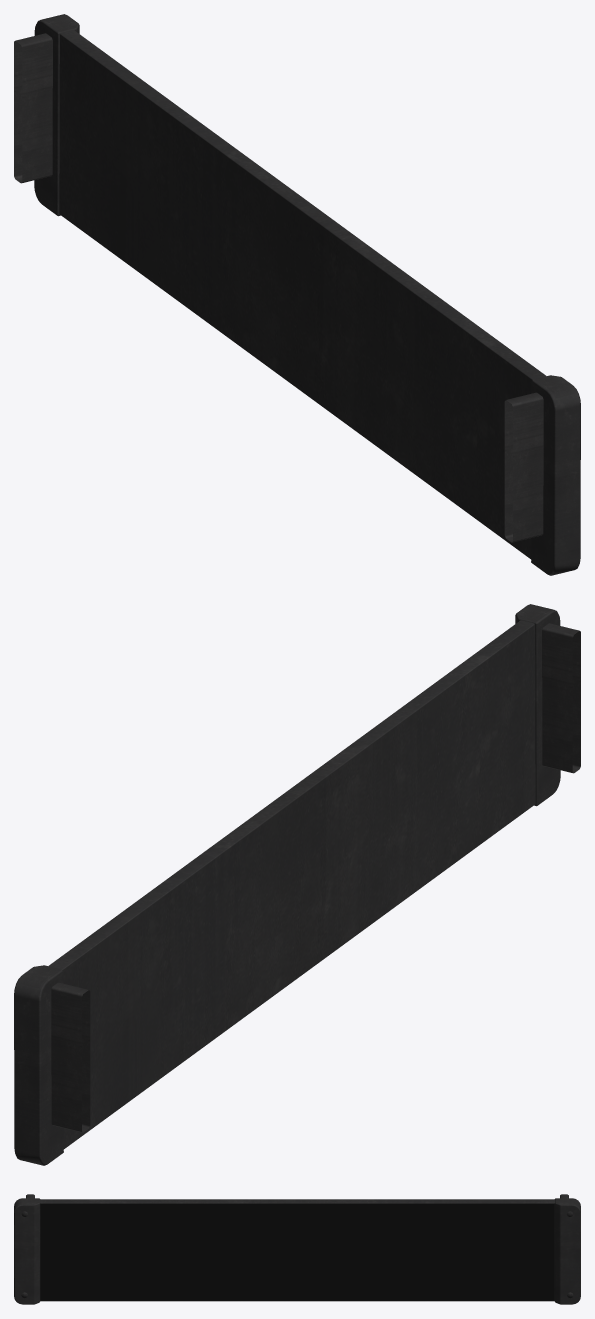
The model's file is Screen_2.fbx.
The picture shows the model from 3 angles, top to bottom: view 1: azimuth 30°, elevation 25°; view 2: azimuth 150°, elevation 25°; view 3: azimuth 270°, elevation 25°; orthographic projection. The views are drawn at different scales.
Visible parts, largest first — view 1: Cube.251; view 2: Cube.251; view 3: Cube.251.
Part boxes in pixels (x1=…): Cube.251: x1=14, y1=14, x2=580, y2=575; Cube.251: x1=14, y1=604, x2=580, y2=1165; Cube.251: x1=14, y1=1194, x2=580, y2=1304.
Size of the model in its own units: 17.41 by 51.39 by 263.
